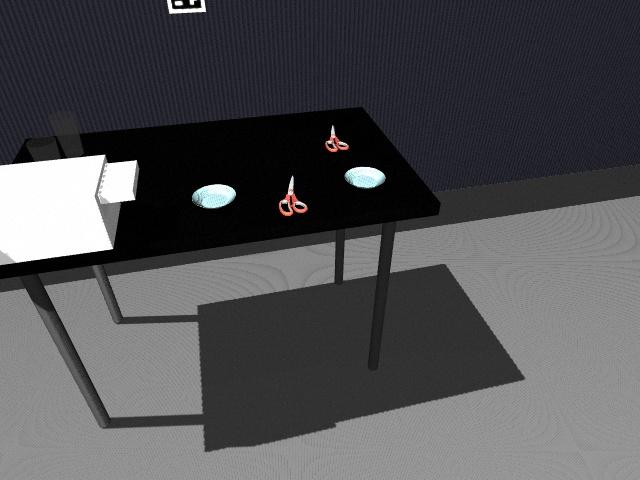cup: (49, 112, 85, 159), (25, 137, 62, 163)
plate: (190, 184, 237, 210), (343, 166, 385, 188)
scissors: (278, 174, 308, 217), (325, 123, 349, 152)
